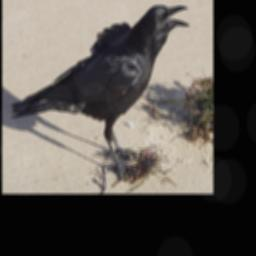Crow: (10, 4, 191, 184)
